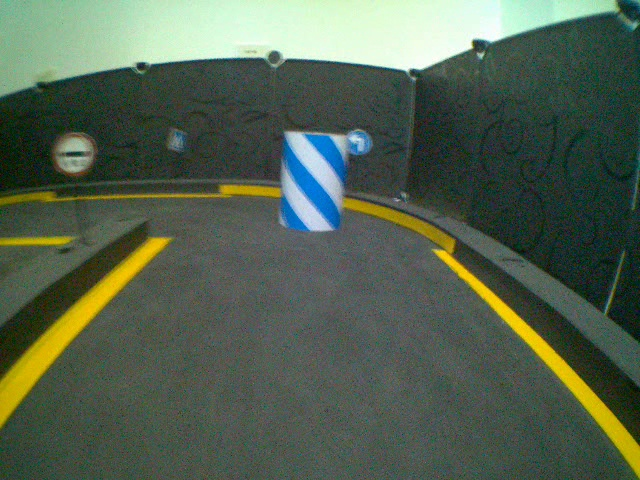bucket: (282, 127, 345, 236)
